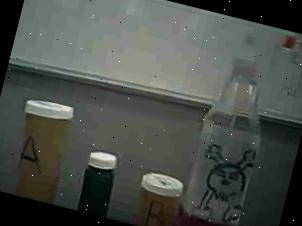Bottle A: (1, 92, 85, 206)
Bottle B: (127, 165, 187, 226)
Bottle C: (72, 148, 126, 220)
hazard: (173, 17, 296, 226)
